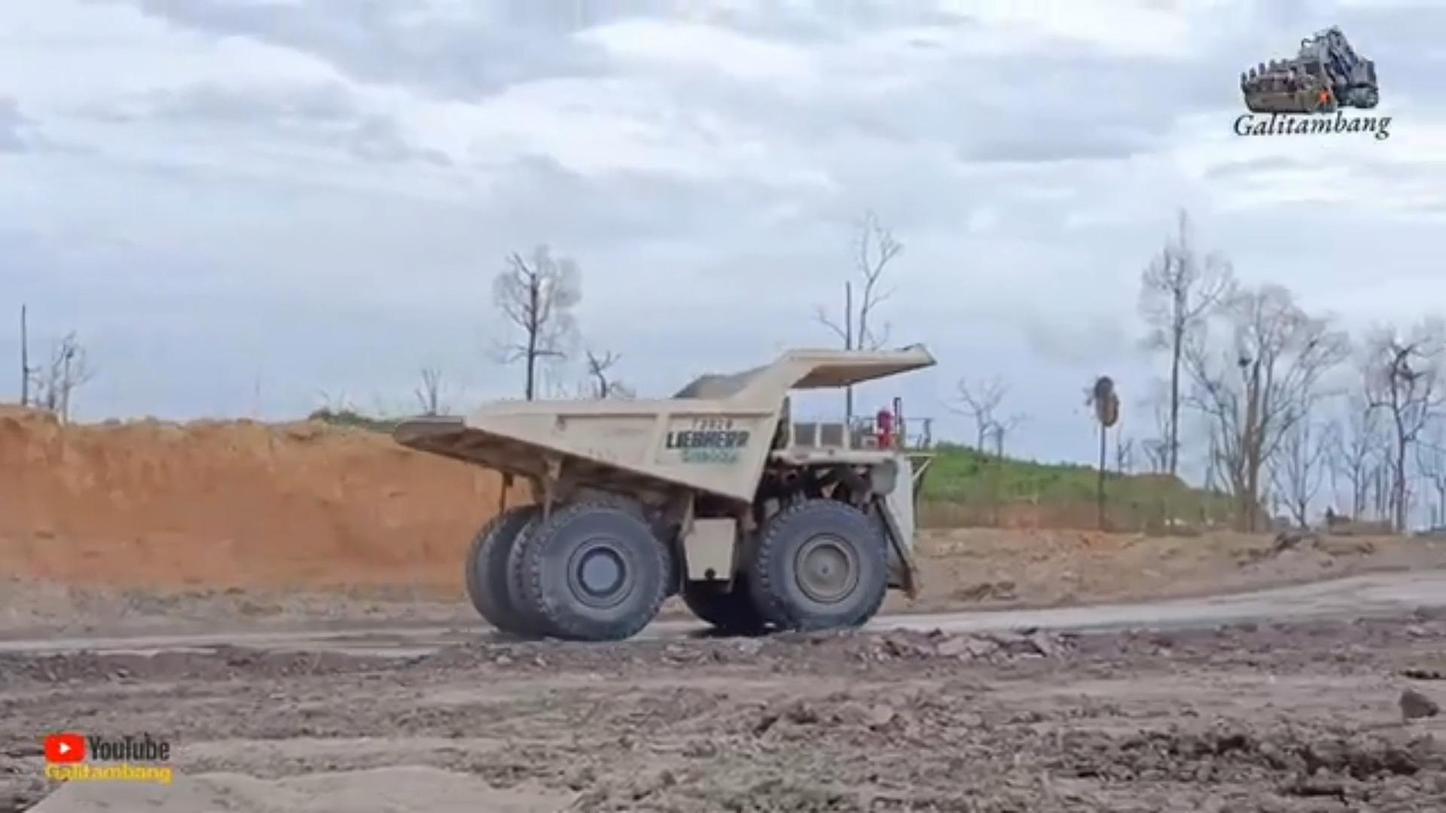HD-Truck: (392, 344, 935, 641)
